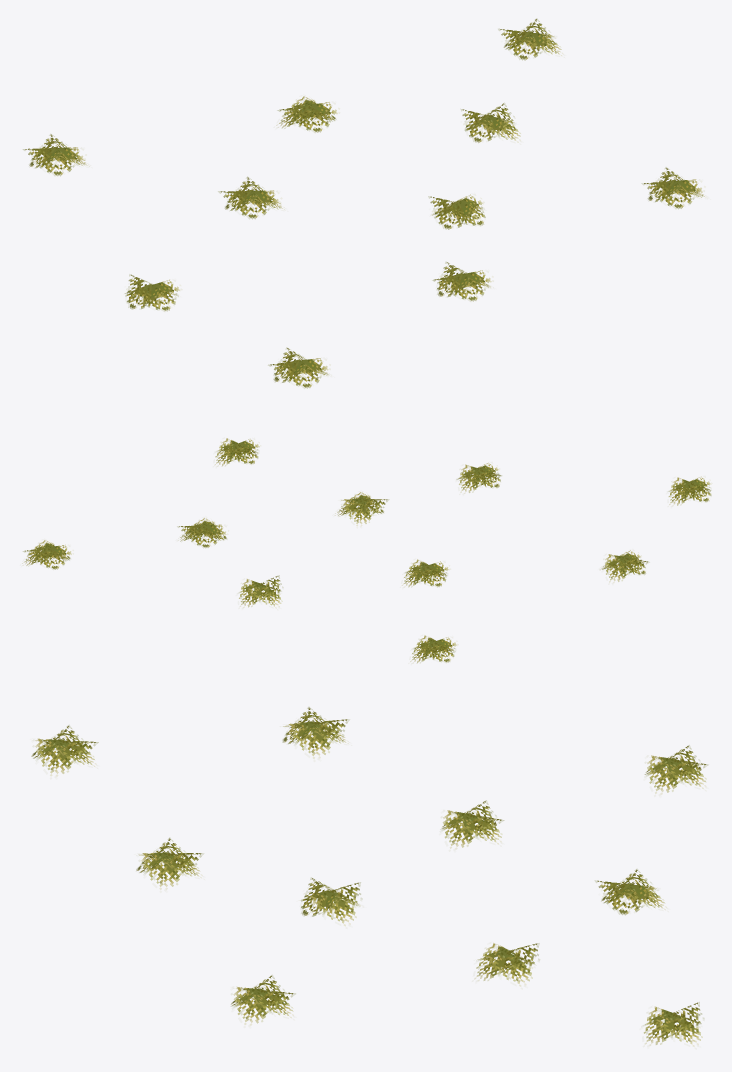
The model's file is Environment - Vegetation - Bush 20 - PTBush20.glb.
3 views of the same model, one above another, from view 1: azimuth 30°, elevation 25°; view 2: azimuth 150°, elevation 25°; view 3: azimuth 270°, elevation 25° (orthographic). The views are drawn at different scales.
Visible parts, largest first — view 1: PTBUSH20; view 2: PTBUSH20; view 3: PTBUSH20.
Boxes of the visible parts, <box> form: PTBUSH20: <box>23,18,704,388</box>; PTBUSH20: <box>22,438,711,663</box>; PTBUSH20: <box>31,707,707,1046</box>.
Size of the model in its own units: 135 by 5.48 by 123.
Materials: 1 (1 with a texture image).
